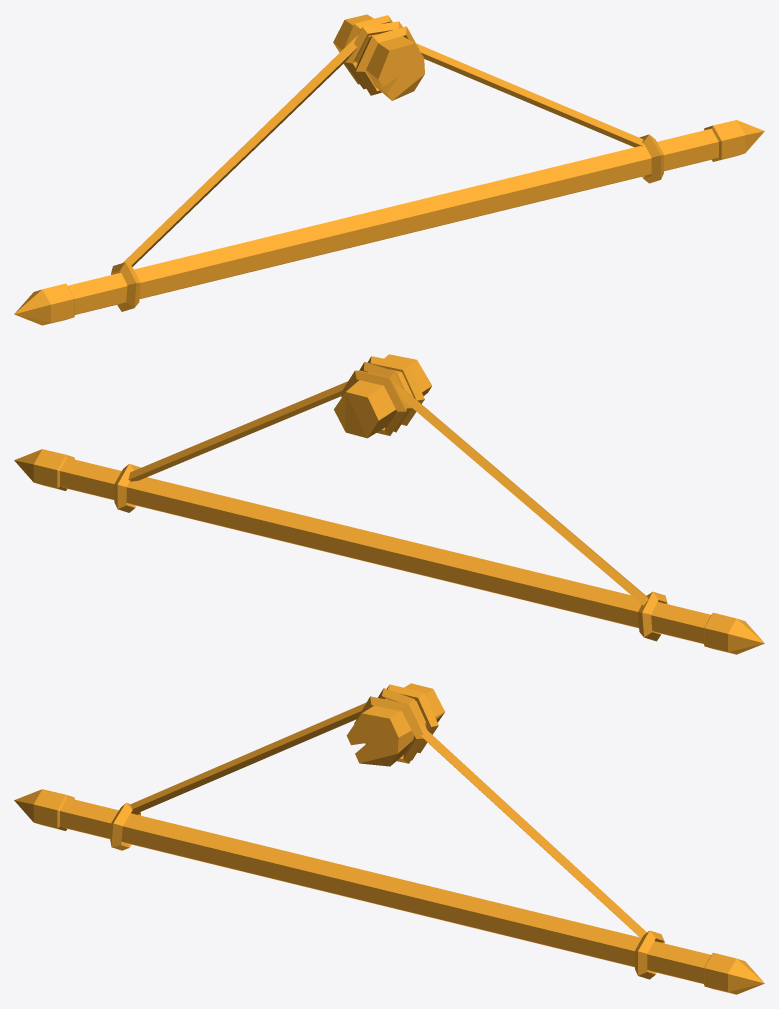
Rendered from SM_Flag_Stand_Wood_Wall_A_Fantasy.fbx.
The picture shows the model from 3 angles, top to bottom: view 1: azimuth 30°, elevation 25°; view 2: azimuth 150°, elevation 25°; view 3: azimuth 330°, elevation 25°; orthographic projection.
Parts seen in each view (by area): view 1: flag-stand-wood-wall-a-fantasy; view 2: flag-stand-wood-wall-a-fantasy; view 3: flag-stand-wood-wall-a-fantasy.
Part boxes in pixels (bbox=[...]): flag-stand-wood-wall-a-fantasy: bbox=[14, 14, 764, 325]; flag-stand-wood-wall-a-fantasy: bbox=[14, 354, 764, 654]; flag-stand-wood-wall-a-fantasy: bbox=[14, 683, 764, 994].
Size of the model in its own units: 1.46 by 0.4027 by 0.1685.
